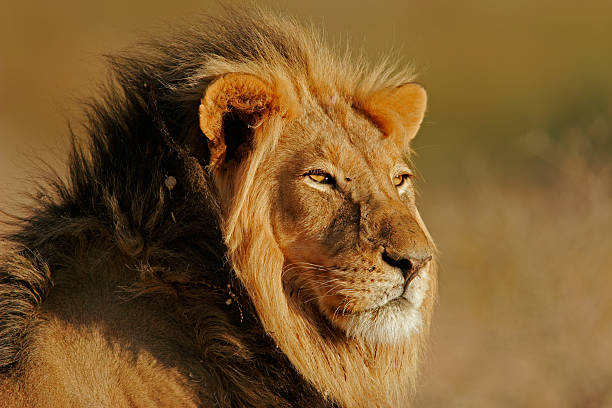lion: (10, 9, 469, 408)
